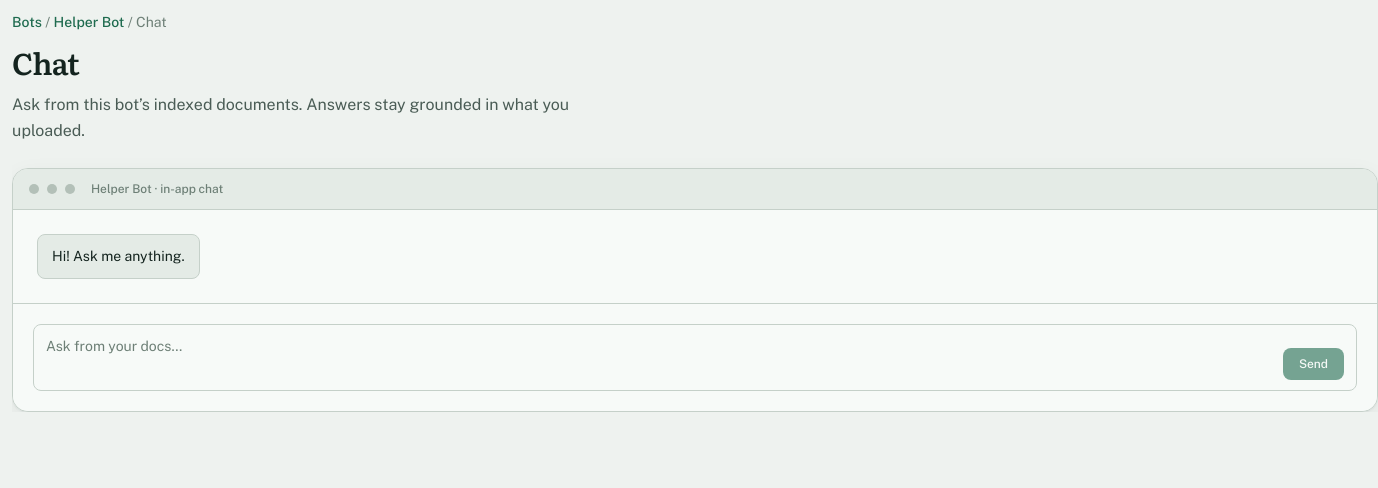
it: ChatThread send flow › appends both turns and streams deltas into the assistant bubble
In the text box named "Message": (660,358) [46,335,1275,380], type "What is in the docs?"
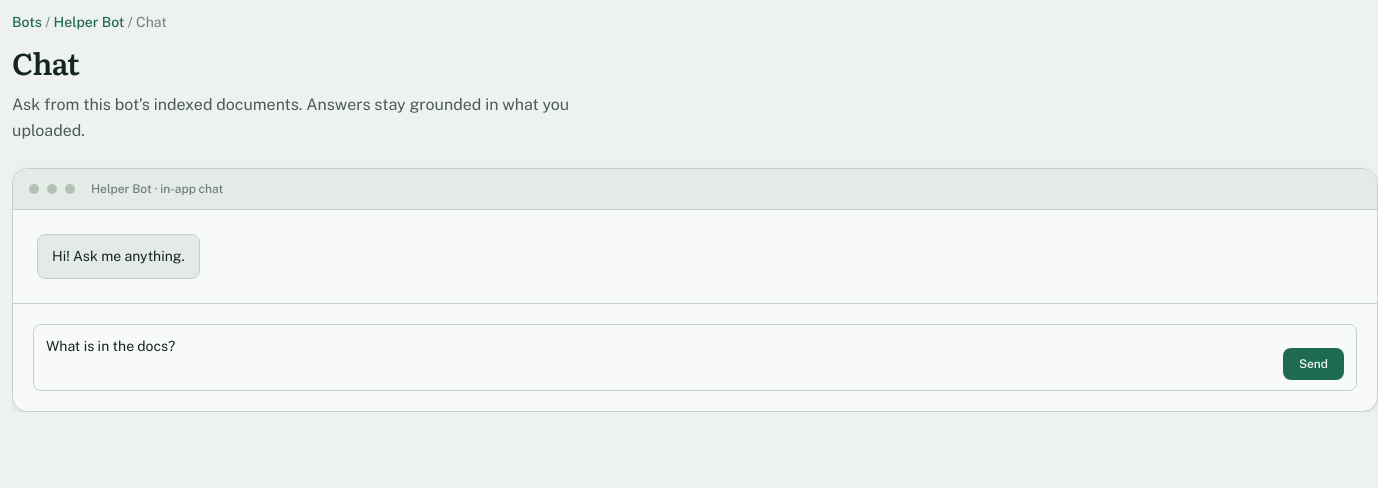
Click the button "Send": (1313,364) [1283,348,1344,380]
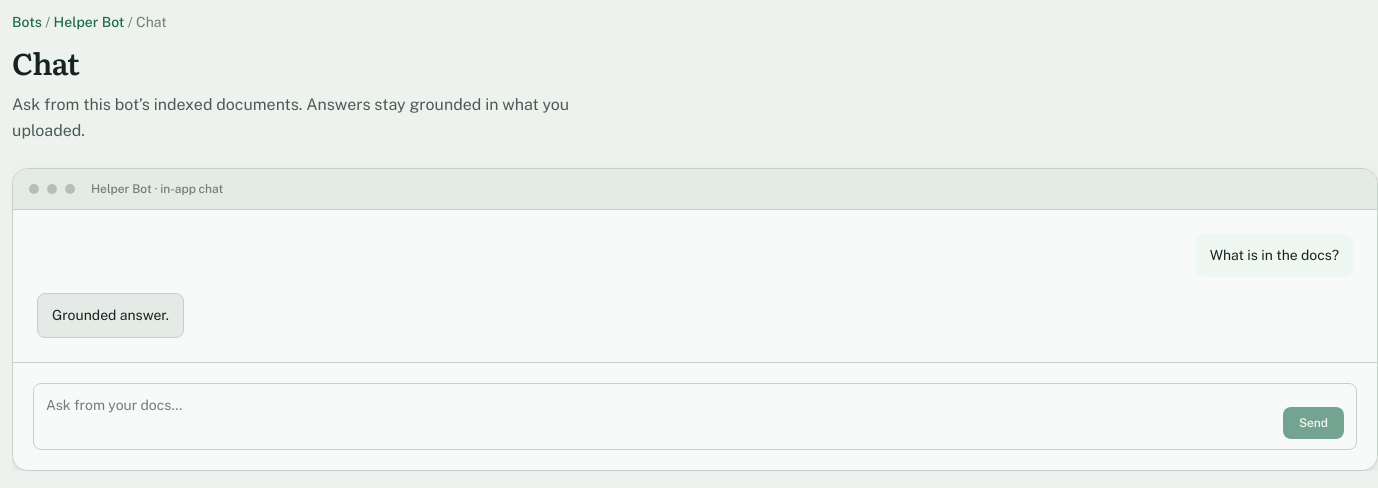
Result: the text "What is in the docs?" is shown at [1210,244,1339,267]
Result: the text "Grounded answer." is shown at [52,304,169,327]
